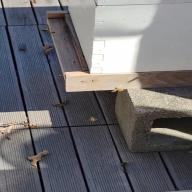Bee: (106, 86, 132, 94), (88, 114, 99, 126)
